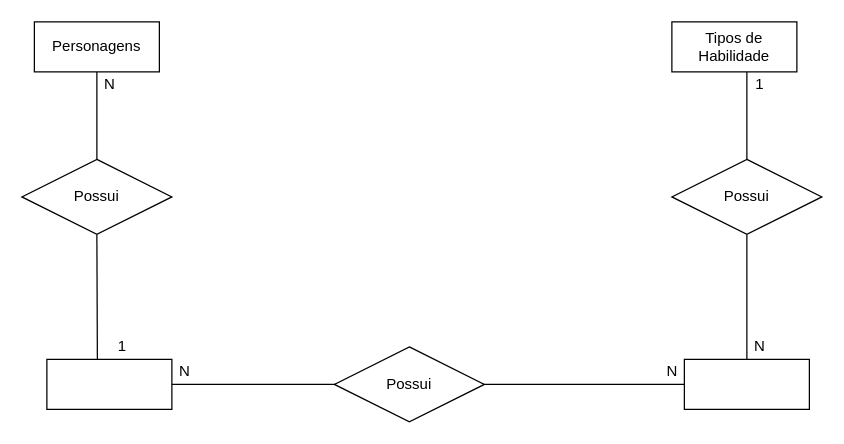
The diagram is 844 pixels wide and 444 high, and some of its shapes have lost their labels. The shapes that lost their labels are listed below. From the top down, each one's box as (x1, y1, x2, y2) in pixels, then its label:
(46, 358, 172, 409): Classes
(683, 358, 809, 409): Habilidades
